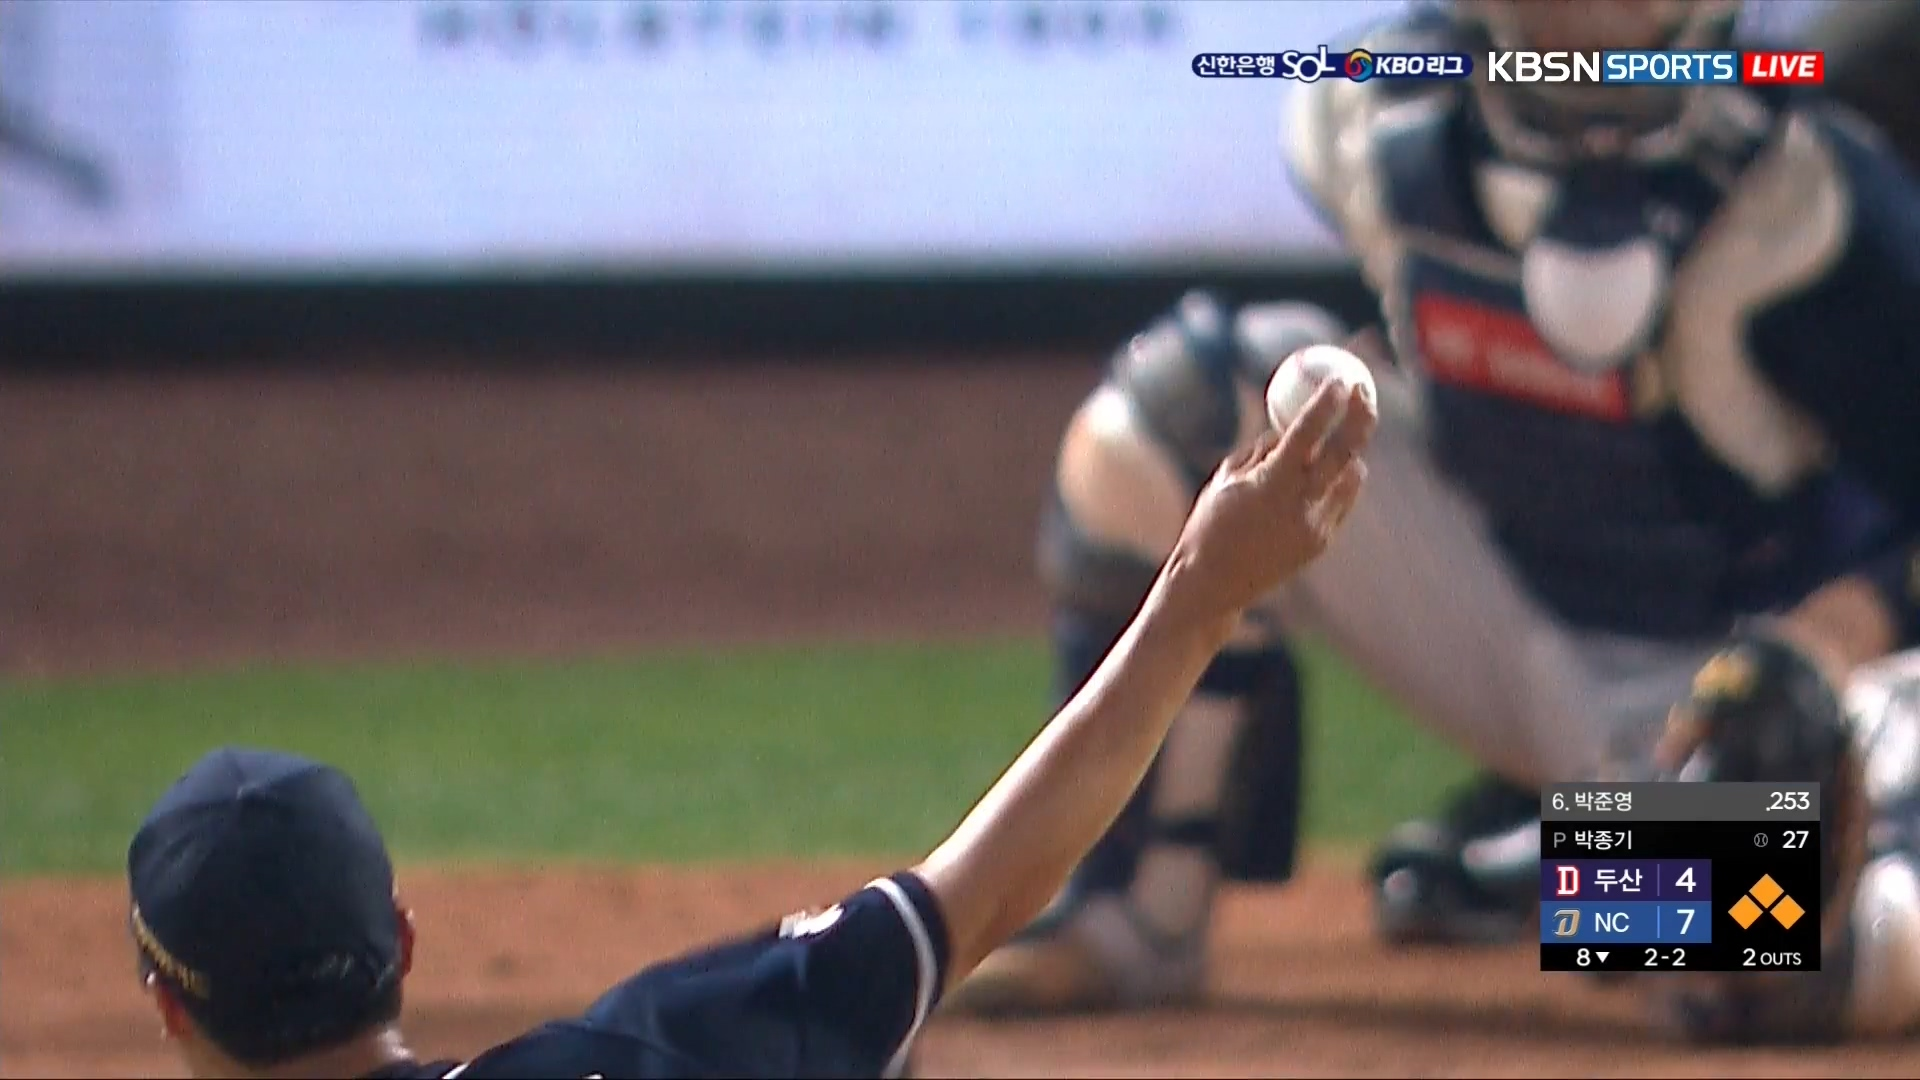zoomin_hand: (918, 324, 1411, 981)
